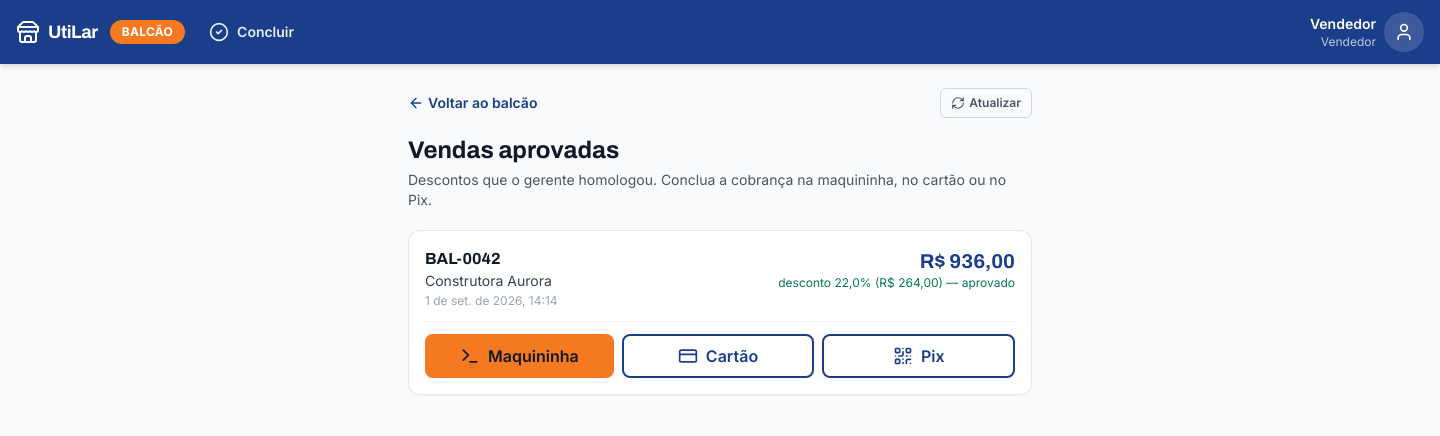
Test: BalcaoCompletionPage — conclui venda aprovada › maquininha: exige NSU e conclui (some da fila)
The image size is (1440, 436).
Expected: the text "BAL-0042" is shown, [425, 250, 501, 267]
Expected: the text "Construtora Aurora" is shown, [425, 271, 558, 291]
Escolhe maquininha → campo de NSU aparece.
Click the button "Maquininha" at (519, 356), box [425, 334, 614, 378]
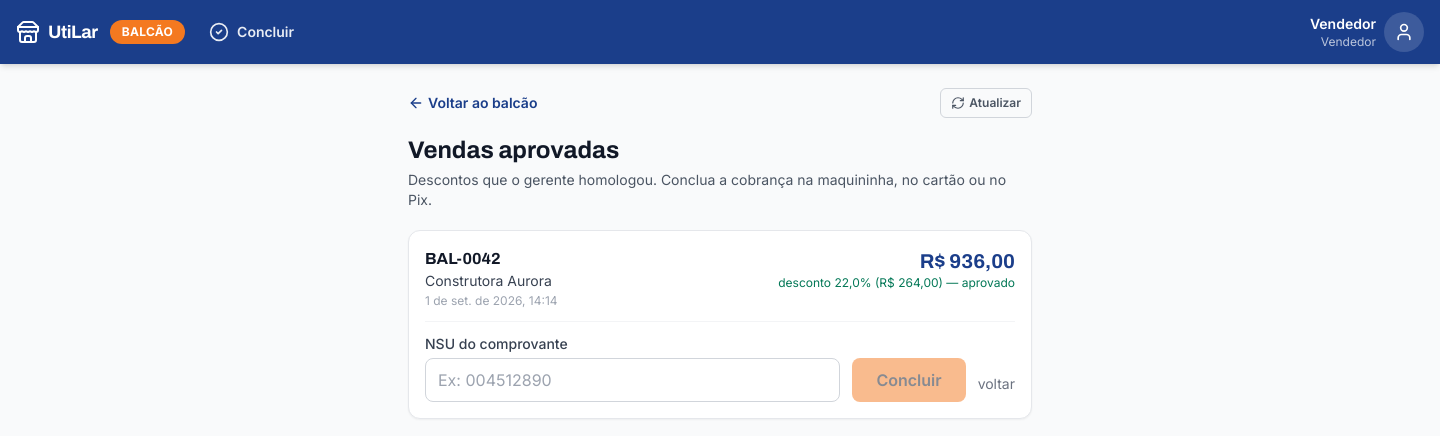
Now the button "Concluir" is disabled, box [852, 358, 966, 402]
Type "004512890" into the field with placeholder "Ex: 004512890" at (633, 380), box [425, 358, 840, 402]
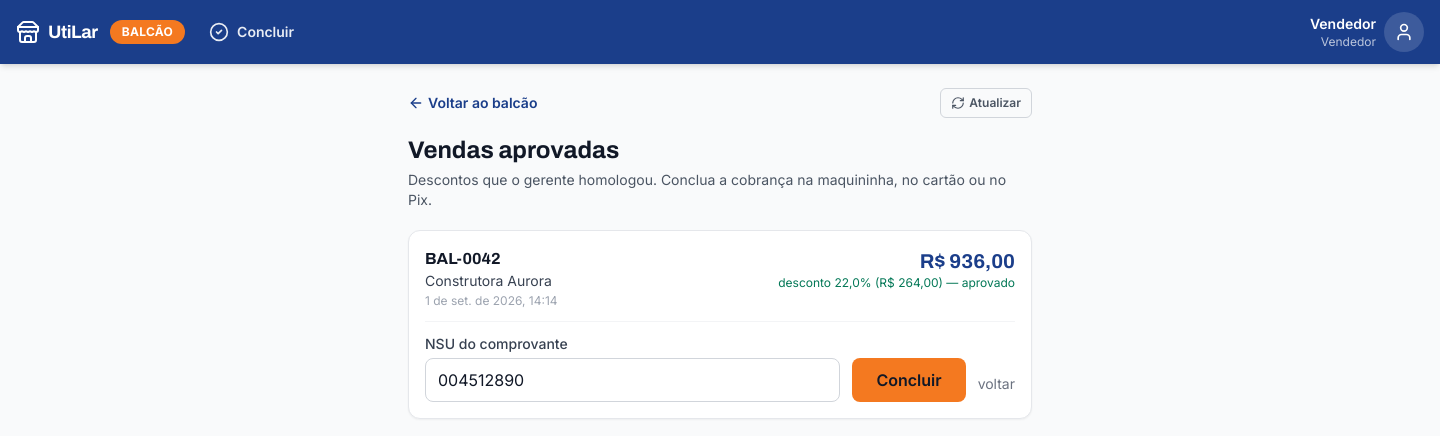
Now the button "Concluir" is enabled
Click the button "Concluir" at (909, 380), box [852, 358, 966, 402]
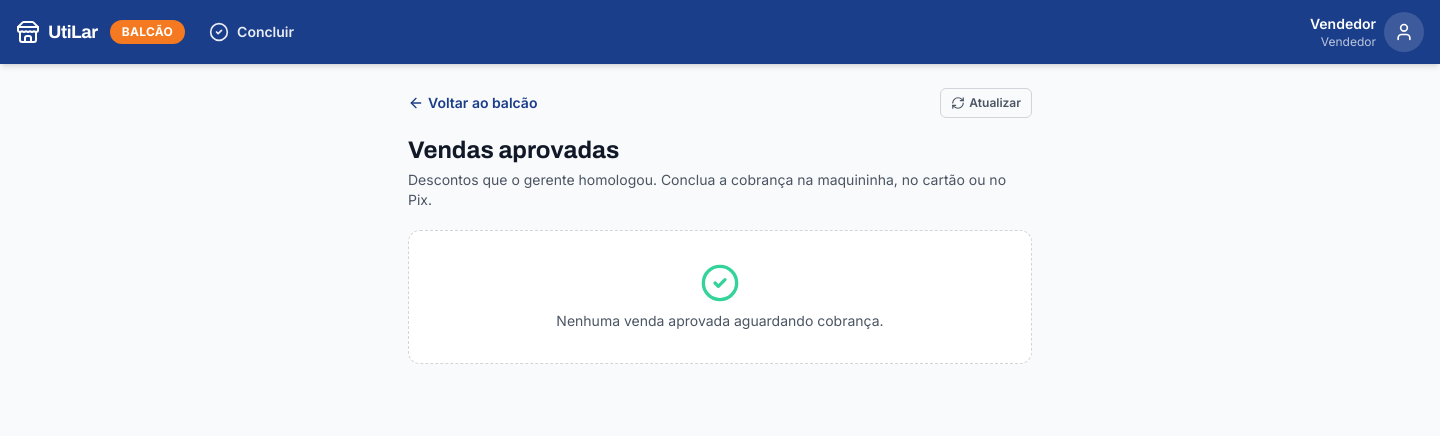
Now the text "Nenhuma venda aprovada aguardando cobrança." is shown, box [556, 311, 884, 331]
